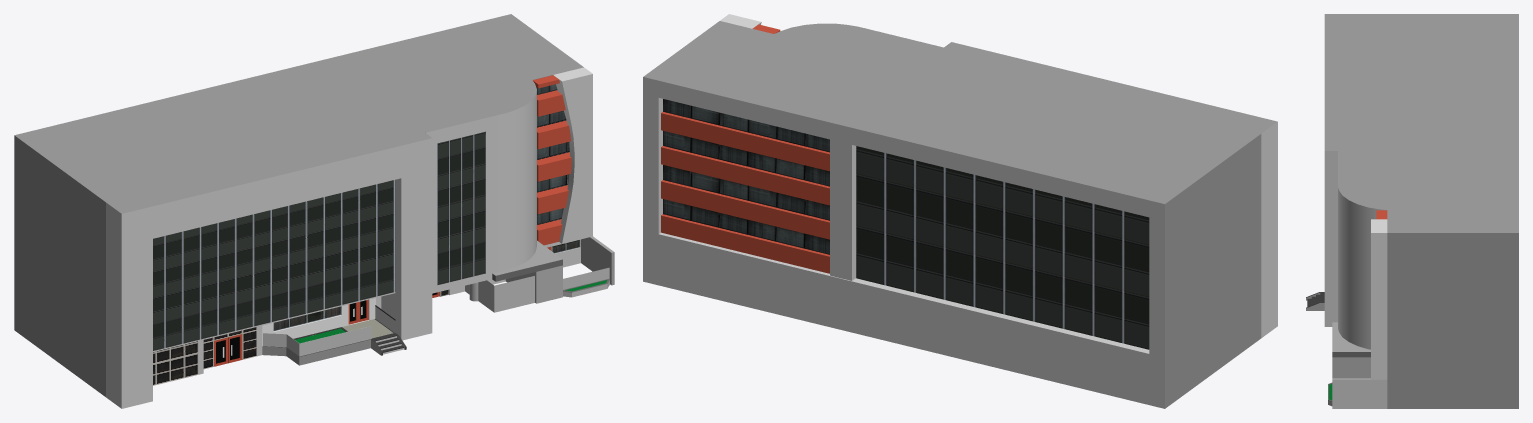
3 views of the same model, side by side, from view 1: azimuth 30°, elevation 25°; view 2: azimuth 150°, elevation 25°; view 3: azimuth 270°, elevation 25° (orthographic). The views are drawn at different scales.
Parts seen in each view (by area): view 1: BB-054; view 2: BB-054; view 3: BB-054.
Boxes of the visible parts, x1,y1,x2,y2 form: BB-054: (14,14,614,408); BB-054: (643,14,1277,408); BB-054: (1306,14,1518,408).
Size of what is drawn, in the model's own units: 48 by 18 by 19.72.
